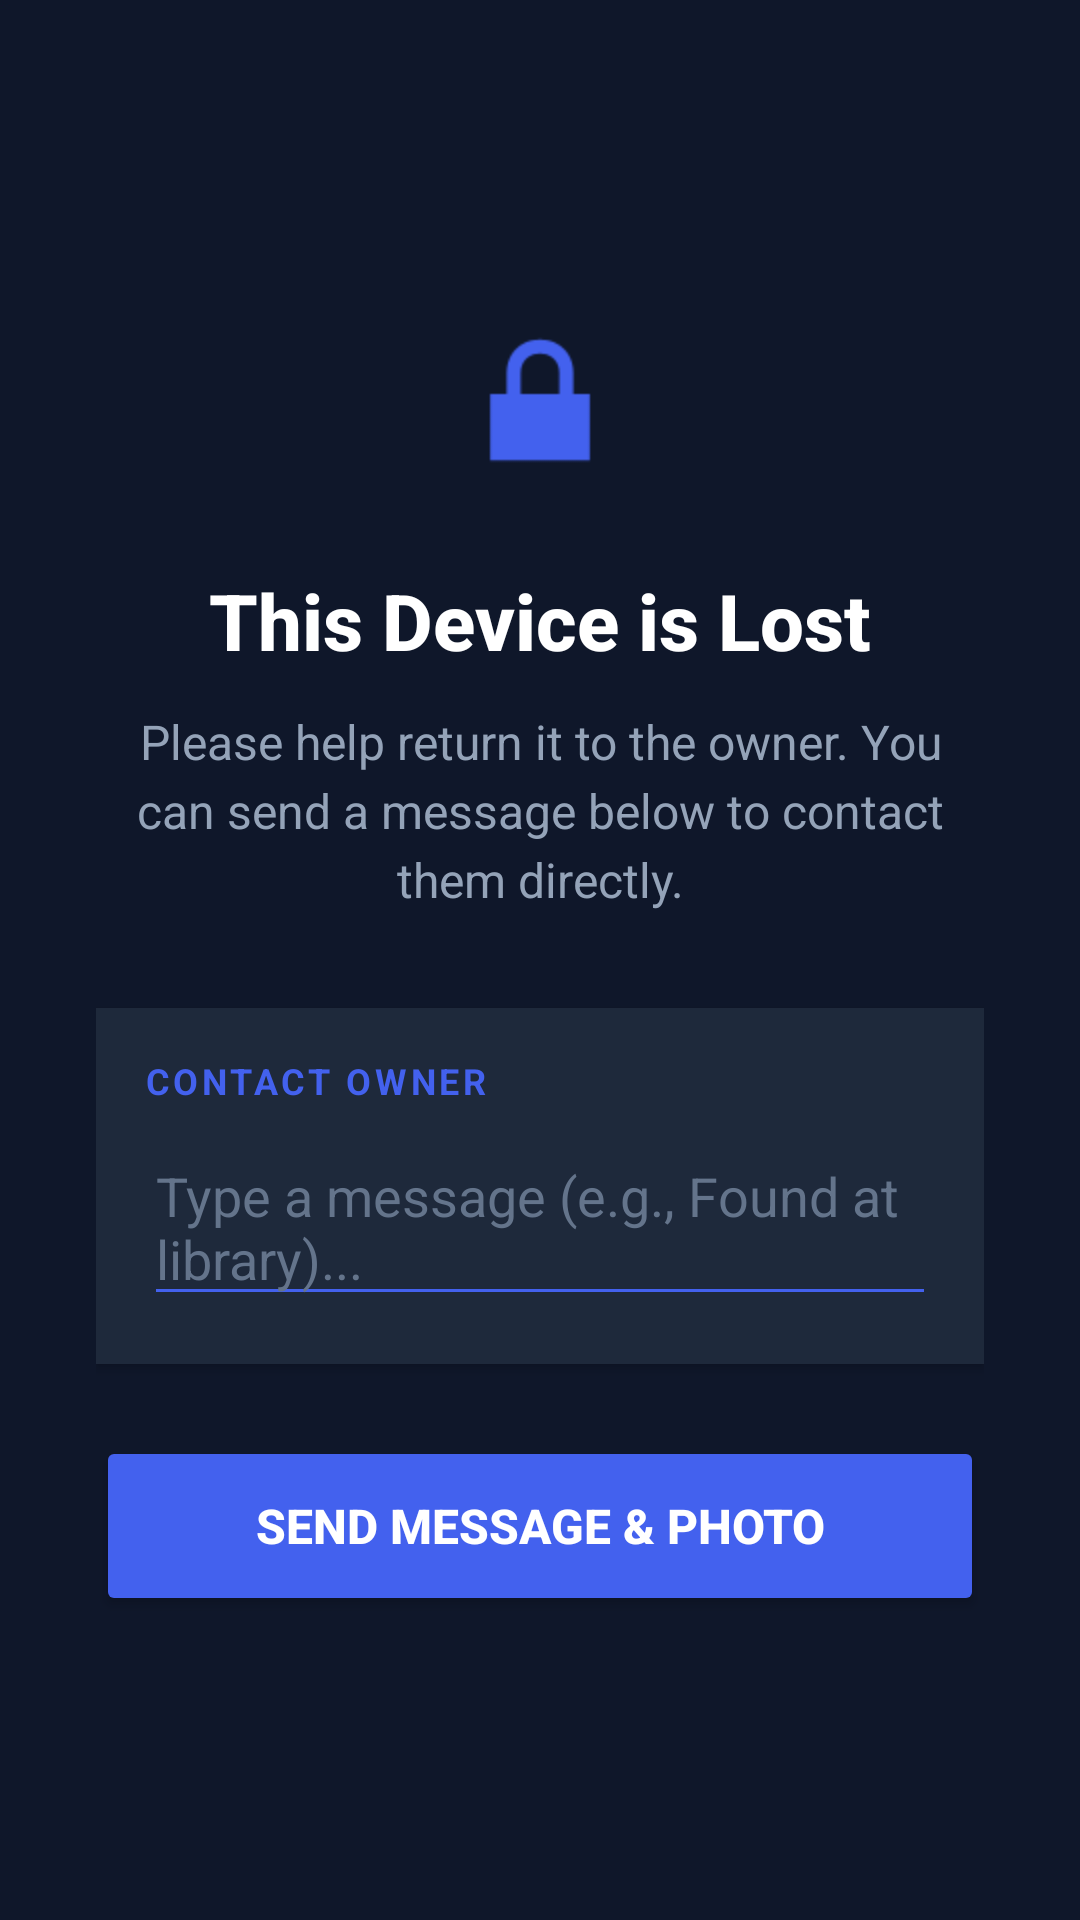

Icons on this 1080x1920 Android screen, each with the point to tap as (x,y):
lock: (540,400)
